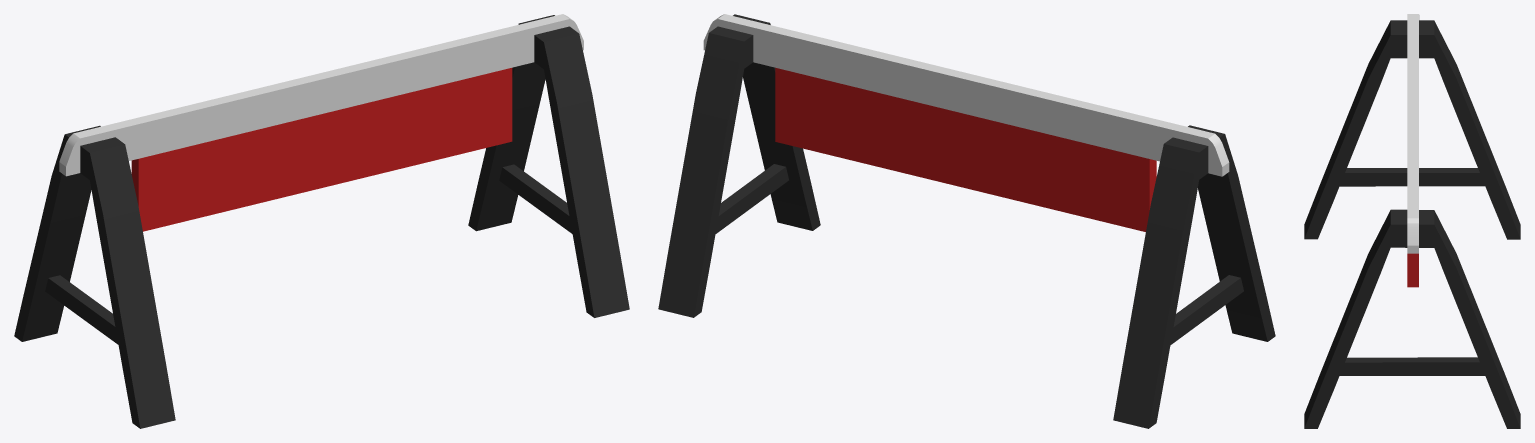
File: RoadBlock_M_v1_Carrie.FBX
The picture shows the model from 3 angles, left to right: view 1: azimuth 30°, elevation 25°; view 2: azimuth 150°, elevation 25°; view 3: azimuth 270°, elevation 25°; orthographic projection. The views are drawn at different scales.
Parts seen in each view (by area): view 1: RoadBlock; view 2: RoadBlock; view 3: RoadBlock.
Boxes of the visible parts, x1,y1,x2,y2 form: RoadBlock: (14, 14, 629, 428); RoadBlock: (658, 14, 1275, 428); RoadBlock: (1304, 14, 1520, 428).
Bounding box in the file's own units: 343 × 156 × 145.
